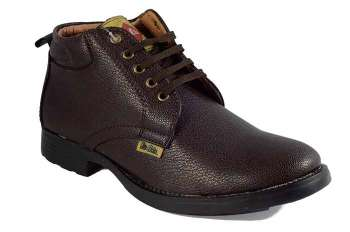Footwear: (30, 5, 335, 219)
